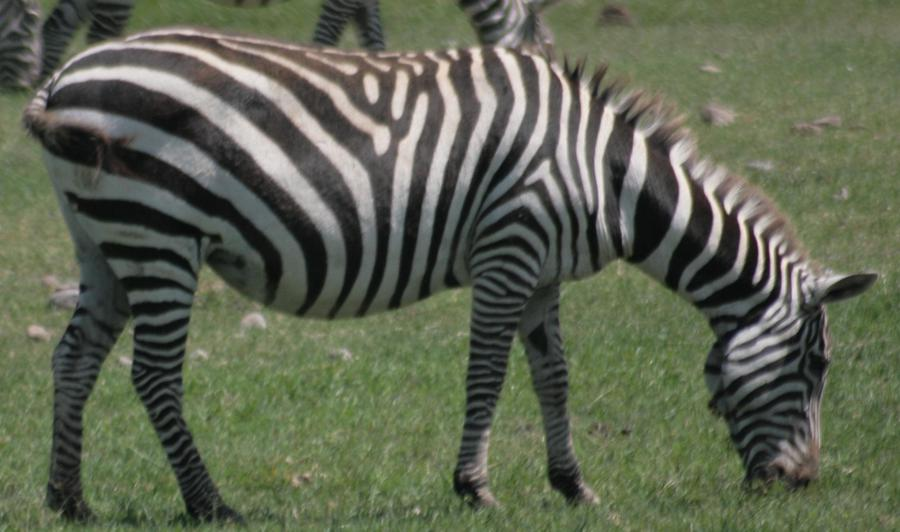zebra_plains: (77, 14, 572, 312)
